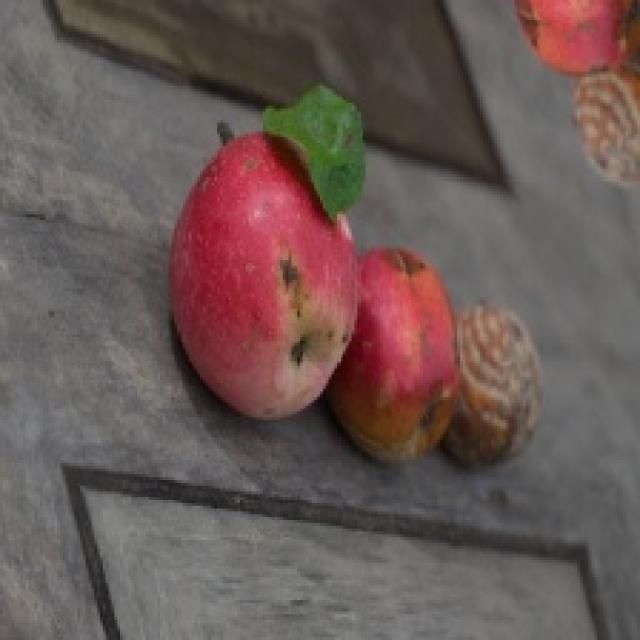apple: (169, 132, 358, 417), (328, 248, 459, 461), (444, 304, 540, 464)
